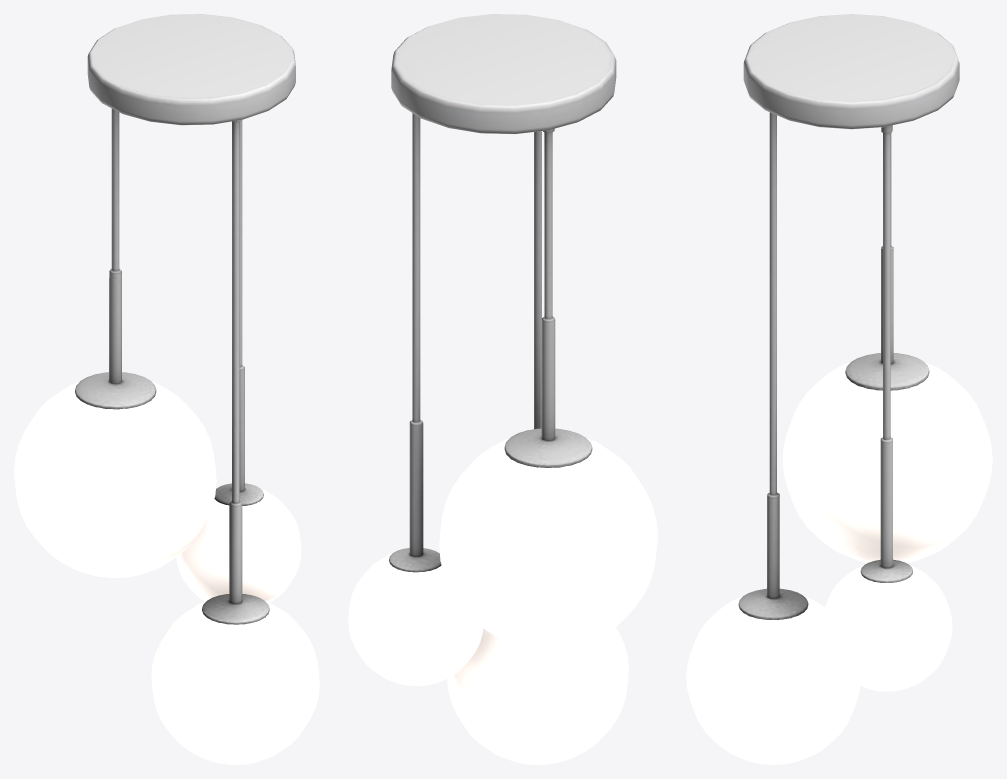
File: ceiling-lamp-3.glb
3 views of the same model, side by side, from view 1: azimuth 30°, elevation 25°; view 2: azimuth 150°, elevation 25°; view 3: azimuth 270°, elevation 25° (orthographic). The views are drawn at different scales.
Parts seen in each view (by area): view 1: Base; view 2: Base; view 3: Base.
Part boxes in pixels (x1,y1,x2,y2): Base: [14, 14, 319, 764]; Base: [348, 14, 657, 764]; Base: [686, 14, 992, 764].
Bounding box in the file's own units: 0.8543 × 2.05 × 0.8267.
1 material, 1 textured.
